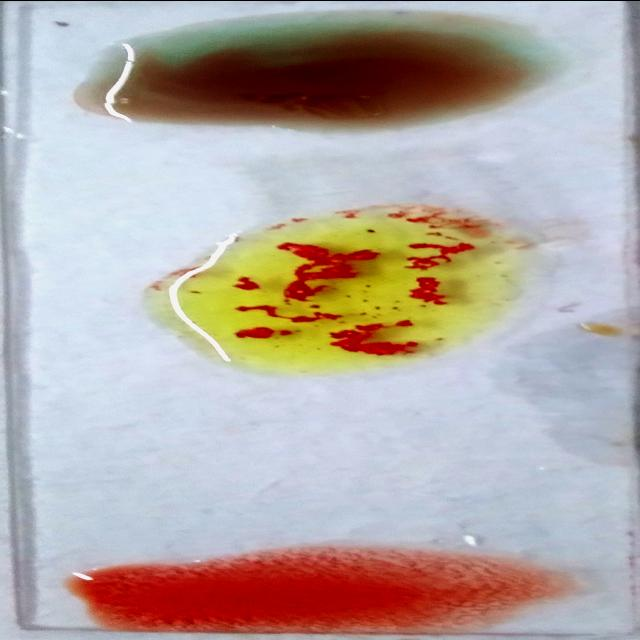B: (162, 208, 524, 366)
D: (75, 548, 563, 630)
